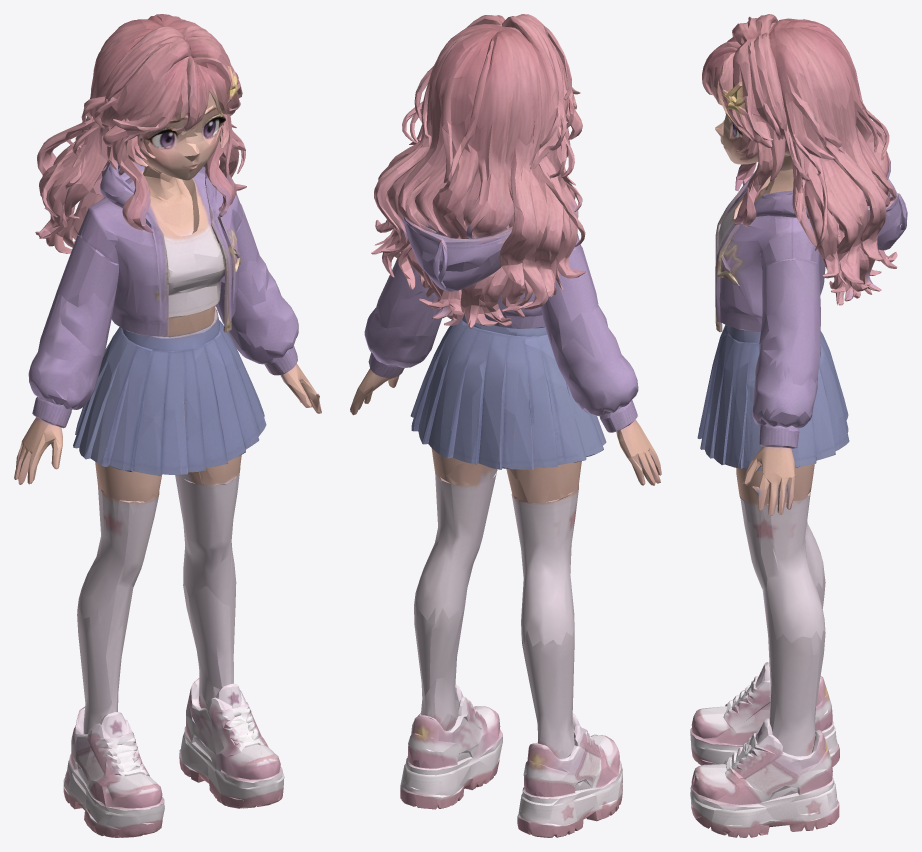
File: byeolha.glb
3 renders of one model, left to right at view 1: azimuth 30°, elevation 25°; view 2: azimuth 150°, elevation 25°; view 3: azimuth 270°, elevation 25°, orthographic.
Bounding box in the file's own units: 0.7745 × 1.9 × 0.4841.
Materials: 1 (1 with a texture image).
